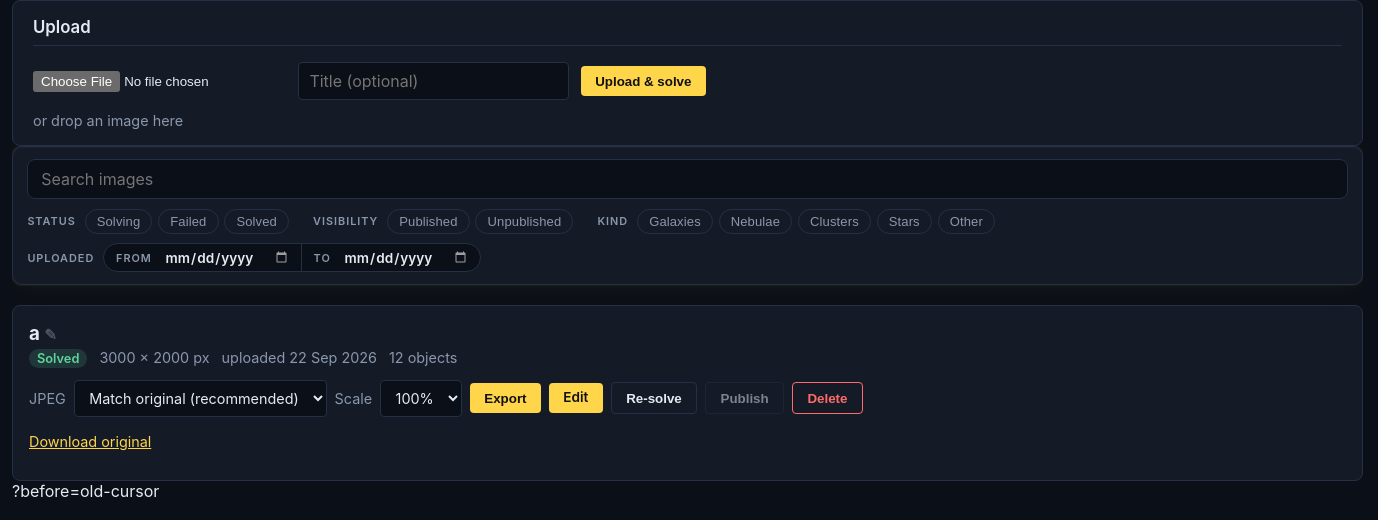
Test: ImagesPage search and filters (#189) › a chip rewrites the URL at once and a typed search after a pause, both from the top
Click the button "Solved".
click(257, 222)  # box [224,209,289,234]
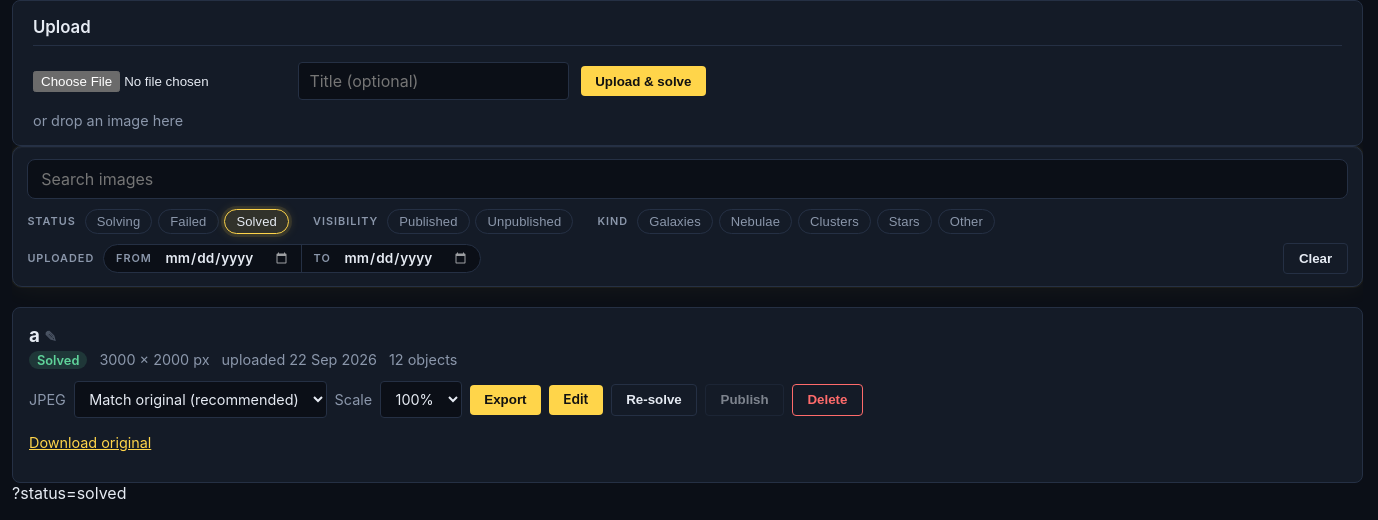
Now the text with test id "url" reads "?status=solved", box [12,483,126,503]
Type "m 27" into the search field labelled "Search images".
click(688, 179); type("m 27")  # box [27,159,1348,199]
Wait 250 ms
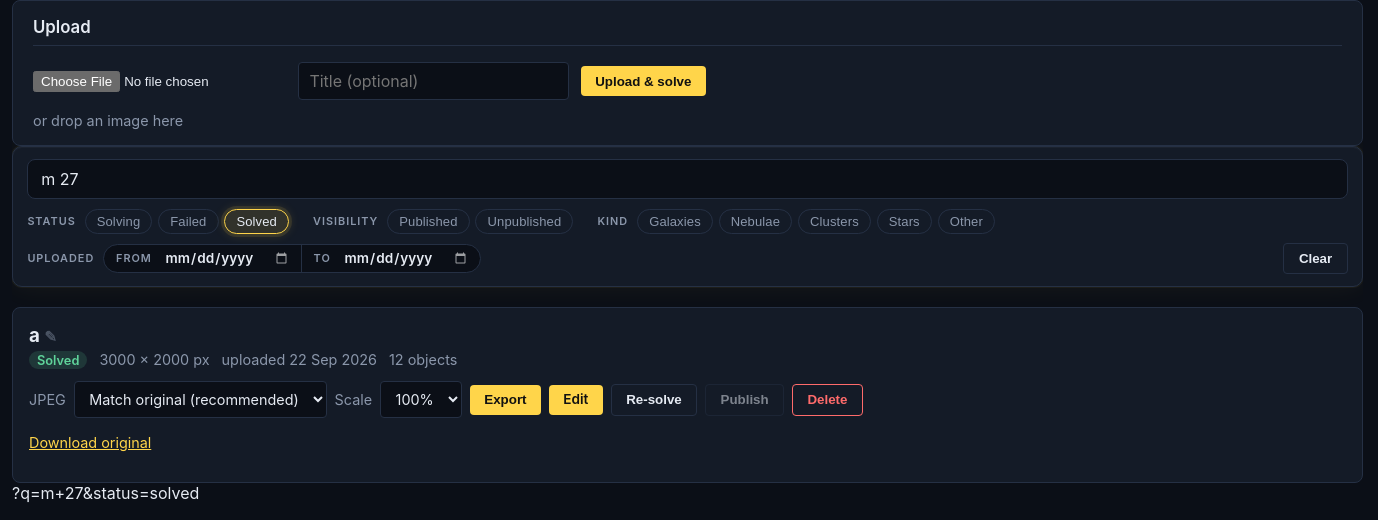
Now the text with test id "url" reads "?q=m+27&status=solved", box [12,483,199,503]
